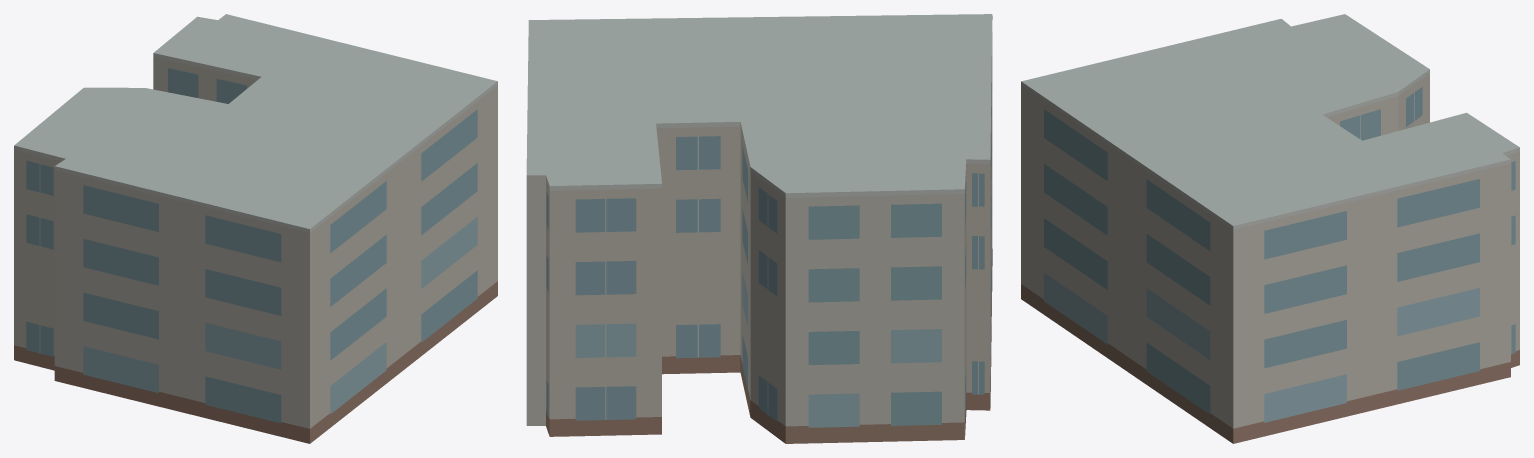
Rendered from survey-upis-32834495.glb.
3 views of the same model, side by side, from view 1: azimuth 30°, elevation 25°; view 2: azimuth 150°, elevation 25°; view 3: azimuth 270°, elevation 25° (orthographic). The views are drawn at different scales.
Parts seen in each view (by area): view 1: survey-upis-32834495.tmp; view 2: survey-upis-32834495.tmp; view 3: survey-upis-32834495.tmp.
Part boxes in pixels (x1,y1,x2,y2): survey-upis-32834495.tmp: (14,14,497,443); survey-upis-32834495.tmp: (526,14,992,443); survey-upis-32834495.tmp: (1021,14,1519,443).
Bounding box in the file's own units: 28 × 13.4 × 27.82.
